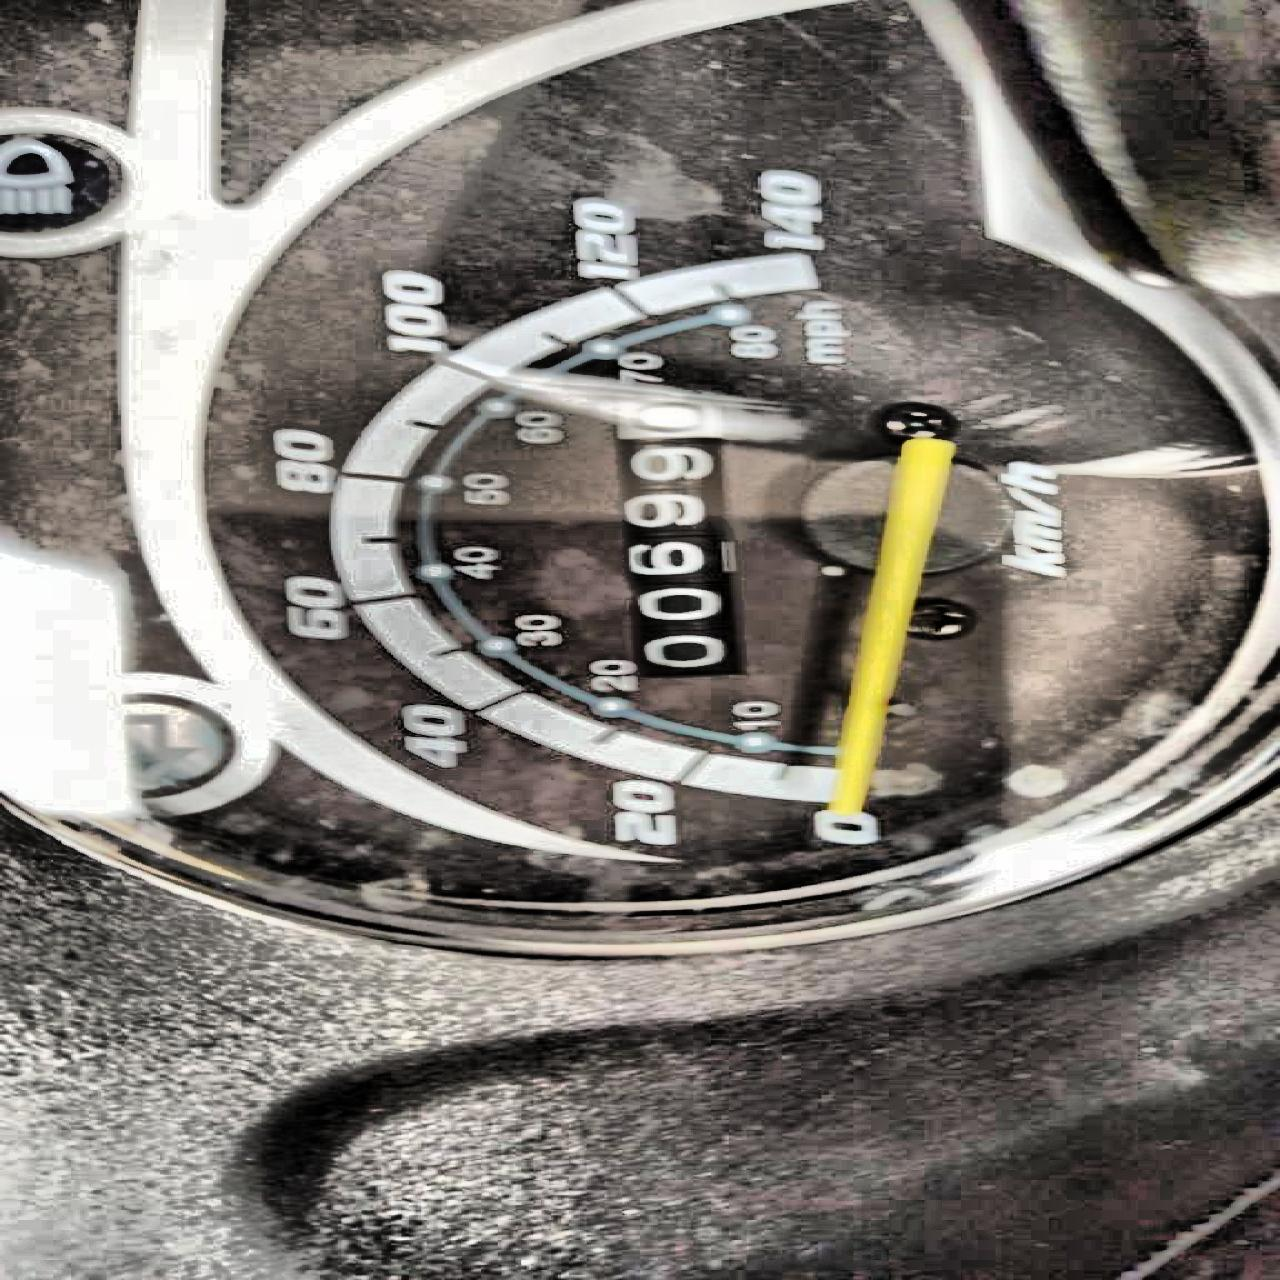0: (628, 583, 722, 622), (635, 631, 724, 668), (622, 397, 707, 434), (602, 656, 633, 676)
6: (622, 539, 702, 576)
9: (625, 443, 717, 483), (618, 490, 707, 527)
odometer: (602, 381, 756, 681)
